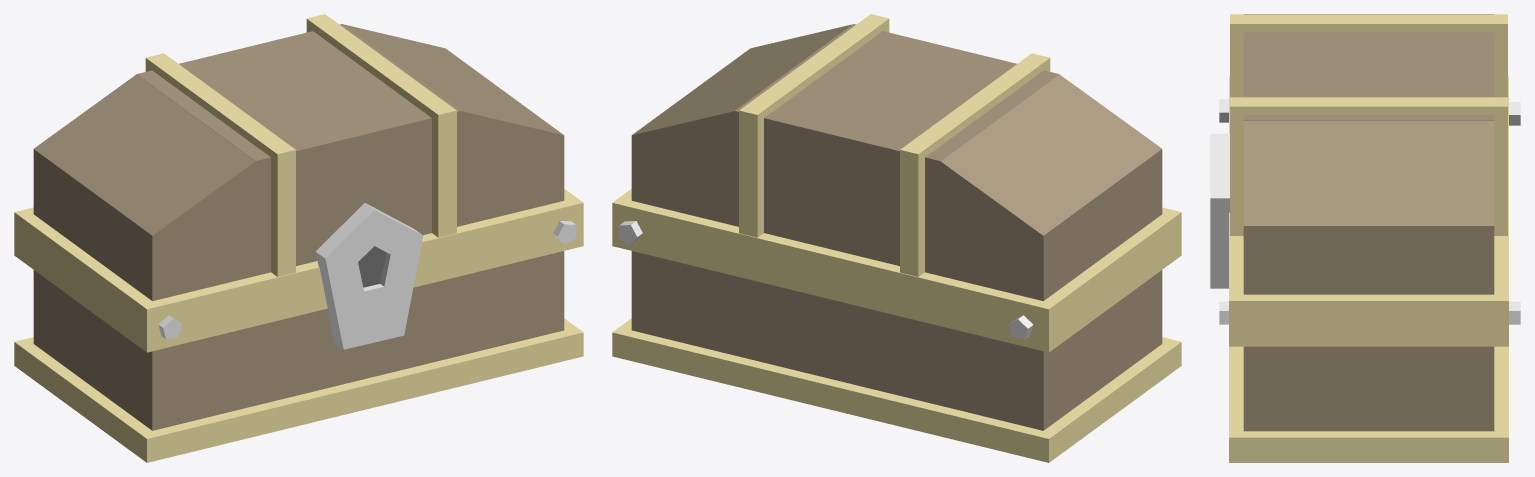
Rendered from Chest_Model.fbx.
3 renders of one model, left to right at view 1: azimuth 30°, elevation 25°; view 2: azimuth 150°, elevation 25°; view 3: azimuth 270°, elevation 25°, orthographic. The views are drawn at different scales.
Parts seen in each view (by area): view 1: Lid, Belt (×2), Body, Lock, pasted__pasted__pCube1, pasted__pCube1; view 2: Lid, Belt (×2), Body, pasted__pasted__pCube1, pasted__pCube1; view 3: Lid, Belt (×2), Body, pasted__pasted__pCube1, pasted__pCube1, Lock.
Boxes of the visible parts, bbox=[...] form: Lid: bbox=[33, 24, 564, 296]; Belt (×2): bbox=[14, 189, 583, 462]; Body: bbox=[33, 196, 564, 430]; Lock: bbox=[315, 203, 423, 349]; pasted__pasted__pCube1: bbox=[306, 14, 456, 237]; pasted__pCube1: bbox=[145, 53, 295, 276]; Lid: bbox=[631, 24, 1162, 295]; Belt (×2): bbox=[612, 189, 1181, 462]; Body: bbox=[631, 196, 1162, 430]; pasted__pasted__pCube1: bbox=[739, 14, 889, 237]; pasted__pCube1: bbox=[900, 53, 1050, 276]; Lid: bbox=[1243, 14, 1494, 289]; Belt (×2): bbox=[1229, 76, 1508, 462]; Body: bbox=[1243, 287, 1494, 431]; pasted__pasted__pCube1: bbox=[1230, 97, 1507, 235]; pasted__pCube1: bbox=[1230, 14, 1507, 97]; Lock: bbox=[1210, 133, 1229, 288].
Size of the model in its own units: 424 by 258 by 248.
